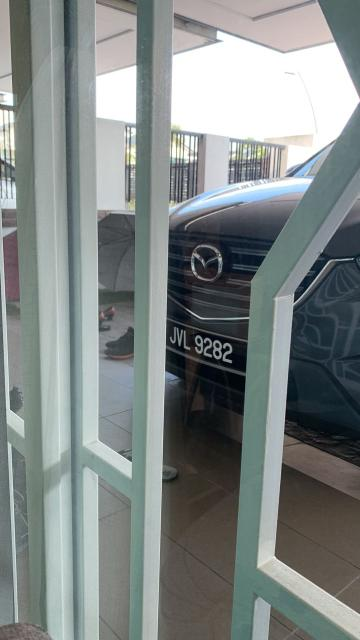License_Plate: (165, 316, 242, 373)
car: (150, 117, 360, 438)
